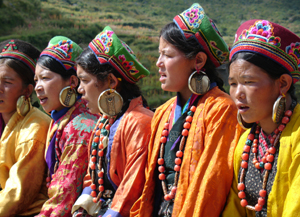human: (145, 3, 246, 217), (72, 20, 156, 217), (218, 18, 300, 217), (30, 31, 97, 217), (1, 35, 45, 217)
